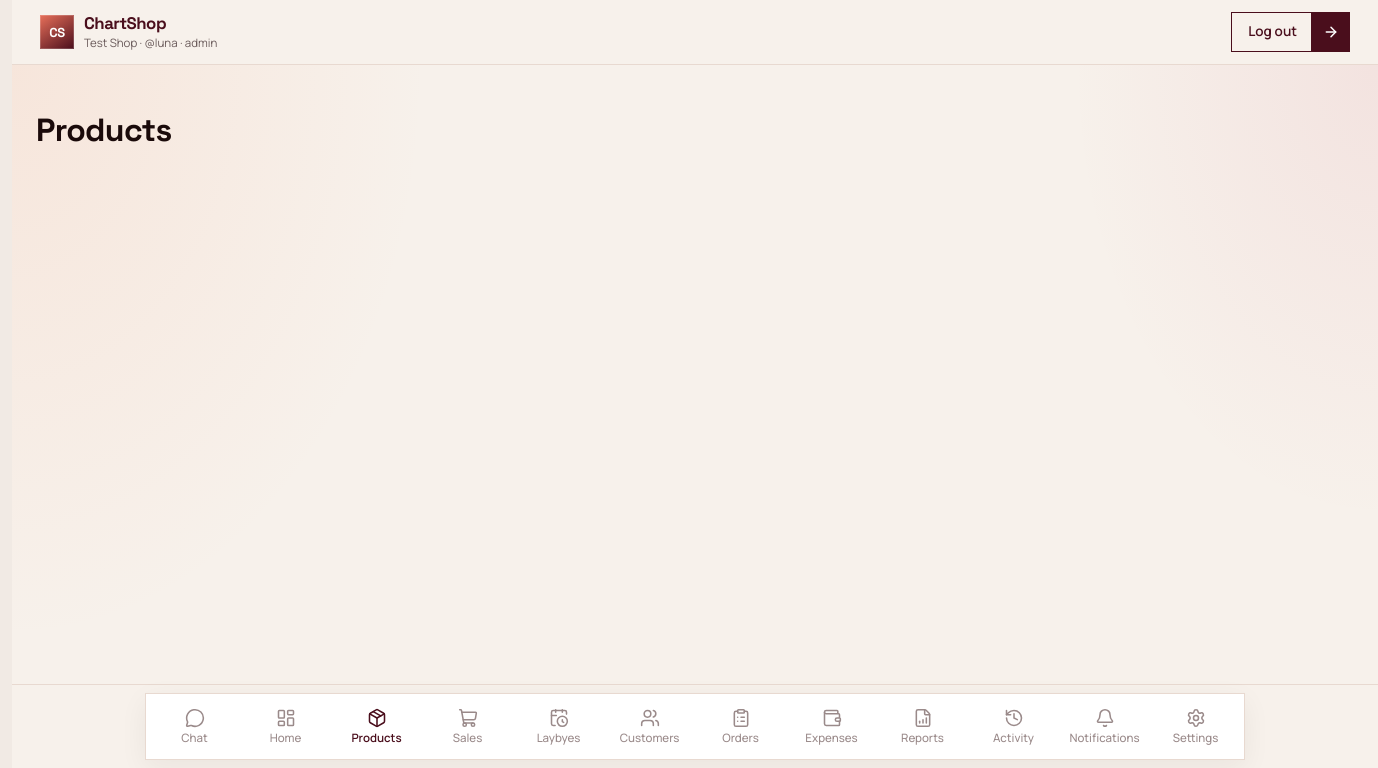
Test: scroll behaviour › AppLayout › does not force main to top when opening Chat (chat owns bottom scroll)
The image size is (1378, 768).
Click the link "Chat".
click(194, 727)  # box x1=181 y1=708 x2=208 y2=745
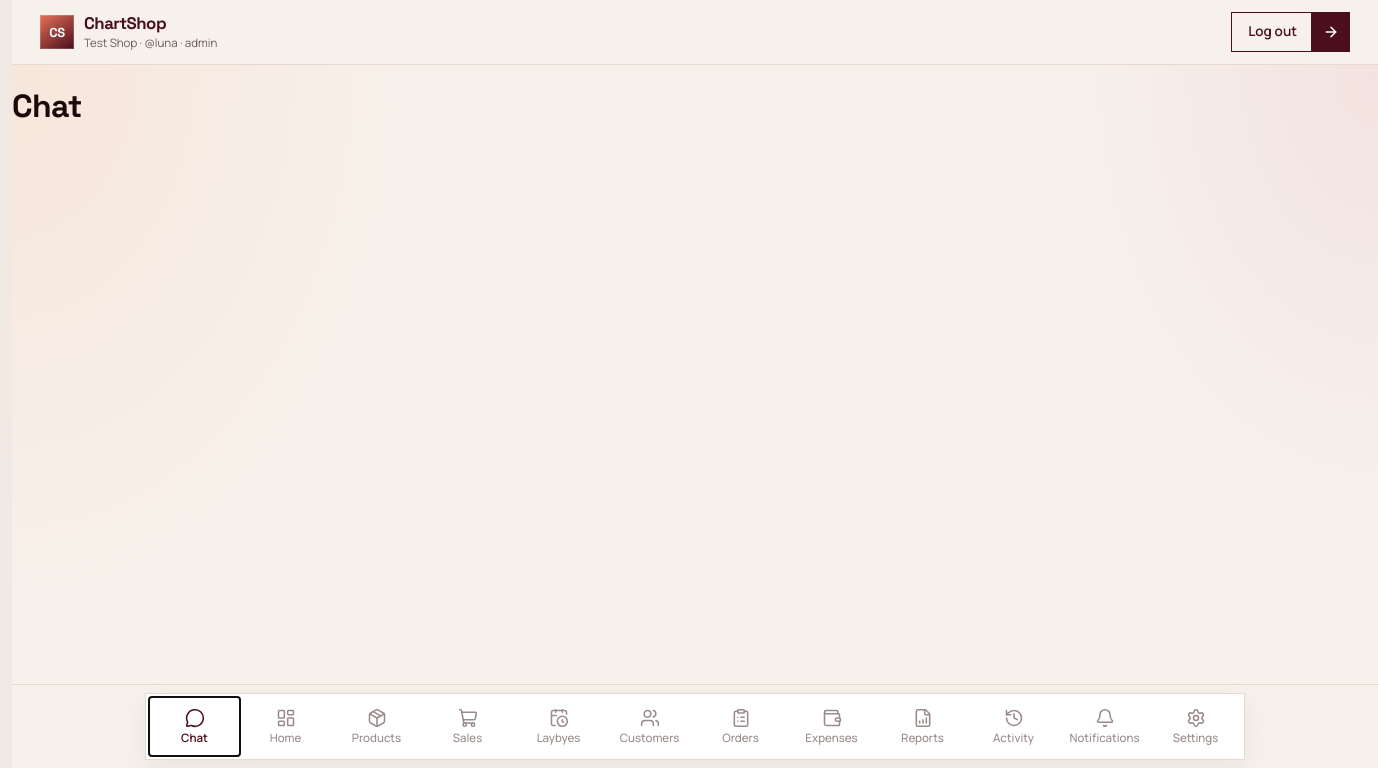
Expected: the heading "Chat" is shown, x1=12 y1=86 x2=82 y2=126
